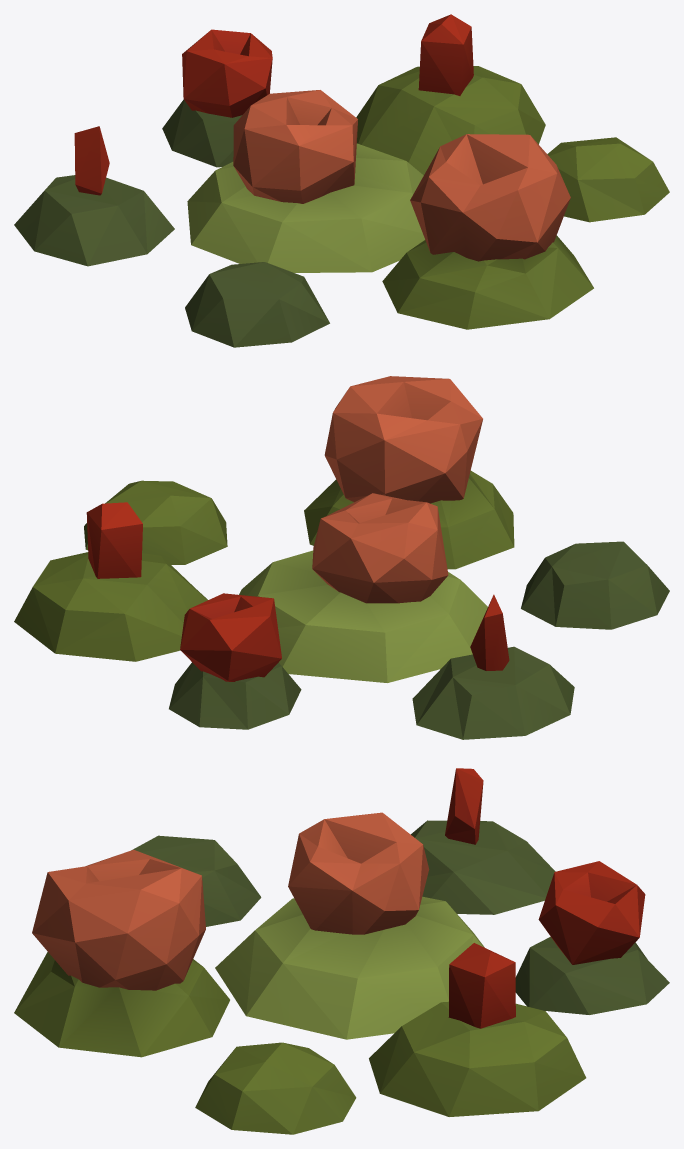
The model's file is swamp_lily_a_low.glb.
3 renders of one model, top to bottom at view 1: azimuth 30°, elevation 25°; view 2: azimuth 150°, elevation 25°; view 3: azimuth 270°, elevation 25°, orthographic. The views are drawn at different scales.
Bounding box in the file's own units: 1.04 × 0.24 × 0.992.
